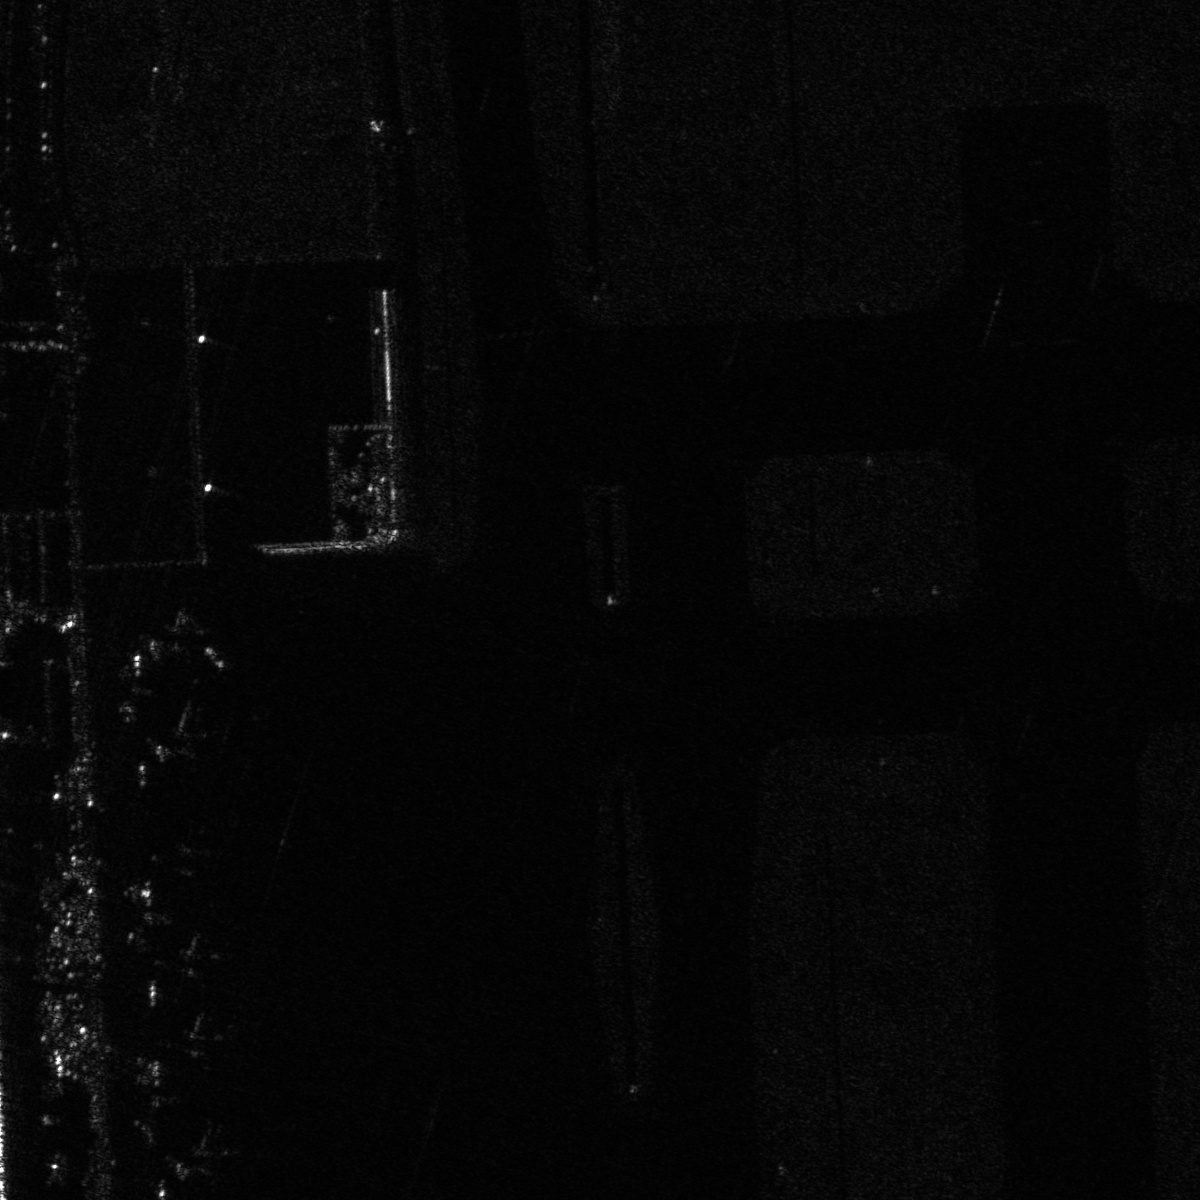A220: (164, 1125, 244, 1184)
A320/321: (135, 701, 238, 779), (149, 932, 233, 985), (173, 1011, 231, 1065)
